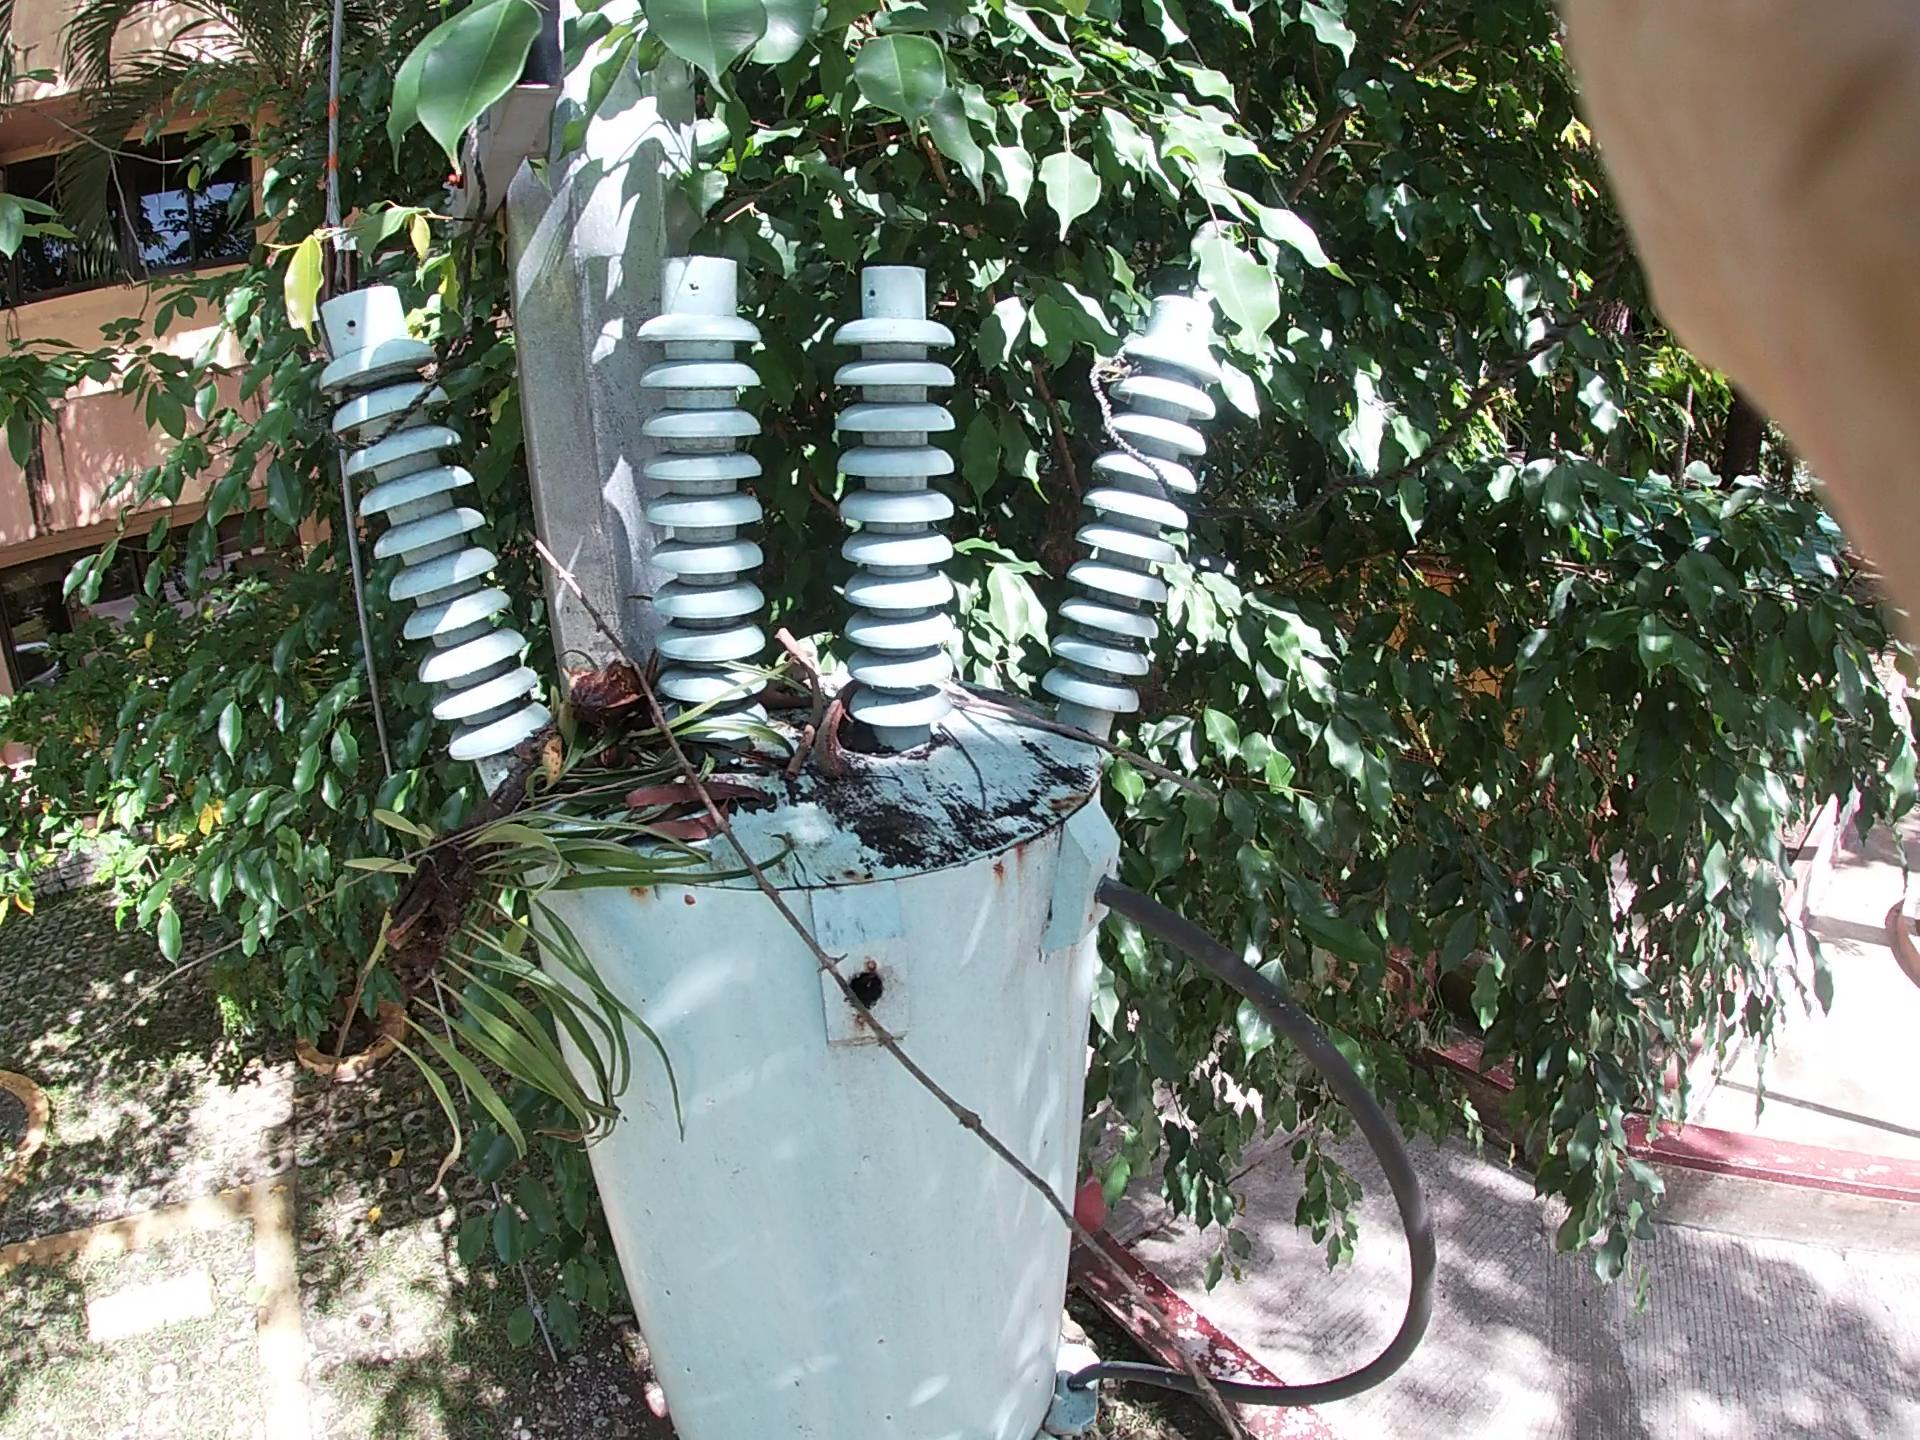branch with leaves: (343, 437, 813, 1203)
leaf: (209, 2, 1293, 440)
mahogany fruit: (537, 629, 714, 829), (783, 678, 925, 806)
tree branch: (469, 473, 1085, 1233), (954, 640, 1268, 877), (742, 579, 915, 796)
